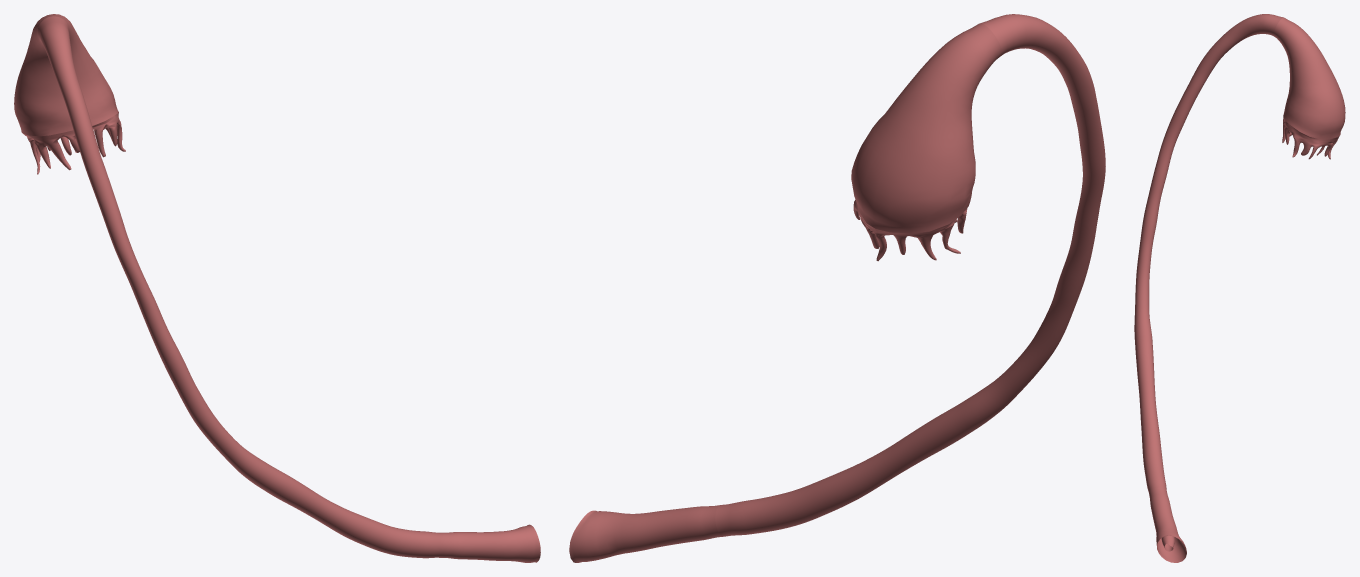
File: VH_F_Fallopian_Tube_R.fbx
The picture shows the model from 3 angles, left to right: view 1: azimuth 30°, elevation 25°; view 2: azimuth 150°, elevation 25°; view 3: azimuth 270°, elevation 25°; orthographic projection. The views are drawn at different scales.
Parts seen in each view (by area): view 1: VH_F_ampulla_of_uterine_tube_R, VH_F_uterine_tube_infundibulum_R, VH_F_isthmus_of_fallopian_tube_R, VH_F_fibria_of_uterine_tube_R; view 2: VH_F_ampulla_of_uterine_tube_R, VH_F_uterine_tube_infundibulum_R, VH_F_isthmus_of_fallopian_tube_R, VH_F_fibria_of_uterine_tube_R; view 3: VH_F_ampulla_of_uterine_tube_R, VH_F_uterine_tube_infundibulum_R, VH_F_isthmus_of_fallopian_tube_R, VH_F_fibria_of_uterine_tube_R.
Part boxes in pixels (left/top/right/bottom): VH_F_ampulla_of_uterine_tube_R: left=37, top=16, right=450, bottom=558; VH_F_uterine_tube_infundibulum_R: left=14, top=14, right=118, bottom=136; VH_F_isthmus_of_fallopian_tube_R: left=442, top=524, right=540, bottom=562; VH_F_fibria_of_uterine_tube_R: left=22, top=112, right=125, bottom=174; VH_F_ampulla_of_uterine_tube_R: left=715, top=14, right=1105, bottom=536; VH_F_uterine_tube_infundibulum_R: left=851, top=23, right=1001, bottom=233; VH_F_isthmus_of_fallopian_tube_R: left=569, top=505, right=722, bottom=562; VH_F_fibria_of_uterine_tube_R: left=853, top=200, right=967, bottom=261; VH_F_ampulla_of_uterine_tube_R: left=1134, top=14, right=1283, bottom=493; VH_F_uterine_tube_infundibulum_R: left=1273, top=17, right=1345, bottom=139; VH_F_isthmus_of_fallopian_tube_R: left=1149, top=488, right=1186, bottom=562; VH_F_fibria_of_uterine_tube_R: left=1282, top=117, right=1339, bottom=159.
Bounding box in the file's own units: 3.44 × 4.46 × 2.09.
